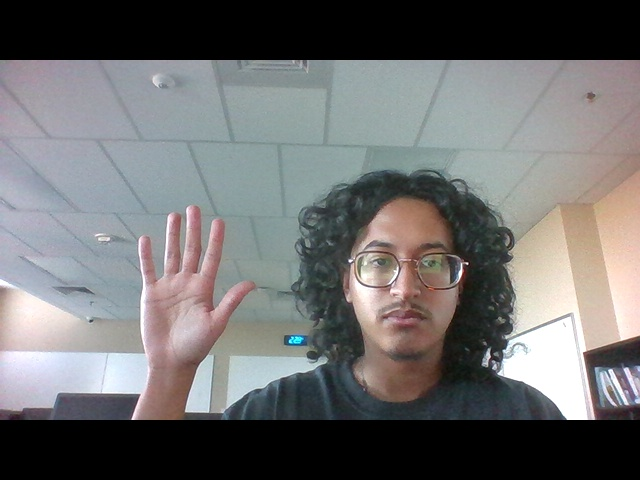hello: (128, 203, 265, 371)
